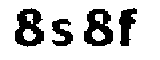8: (12, 4, 46, 48), (81, 7, 115, 49)
f: (117, 6, 141, 49)
s: (48, 16, 79, 49)
